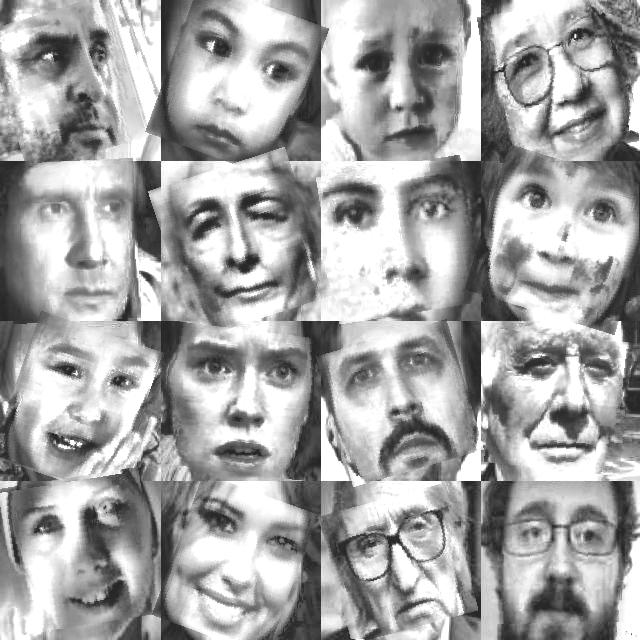angry: (159, 156, 323, 330), (324, 327, 476, 479), (326, 491, 471, 637)
fear: (161, 325, 317, 476), (327, 0, 470, 147)
happy: (473, 154, 640, 325), (1, 320, 161, 492), (483, 0, 635, 158), (3, 472, 155, 630), (163, 481, 306, 640), (488, 333, 630, 473)
neutral: (156, 0, 317, 169), (0, 0, 164, 162), (322, 160, 478, 319), (6, 160, 139, 322), (492, 482, 624, 624)
